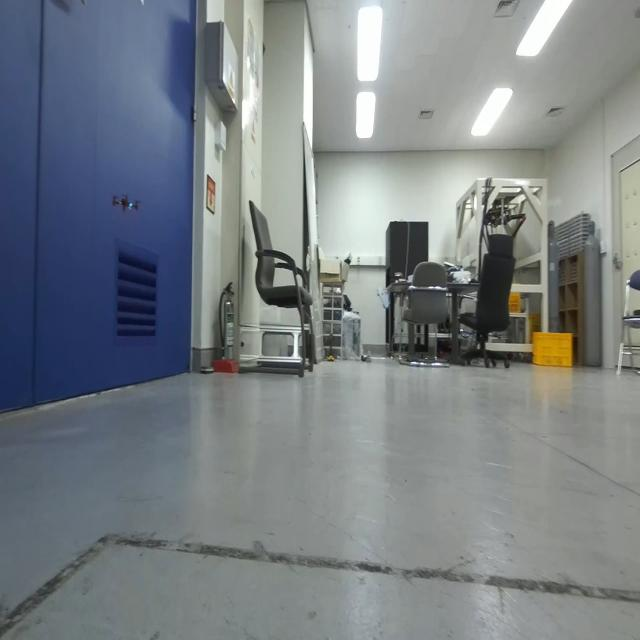crazyflie: (109, 186, 142, 223)
